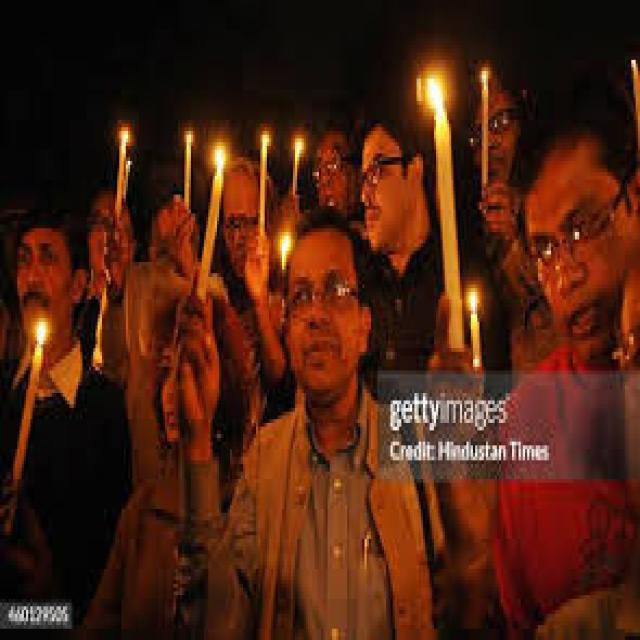fire: (416, 60, 456, 124)
